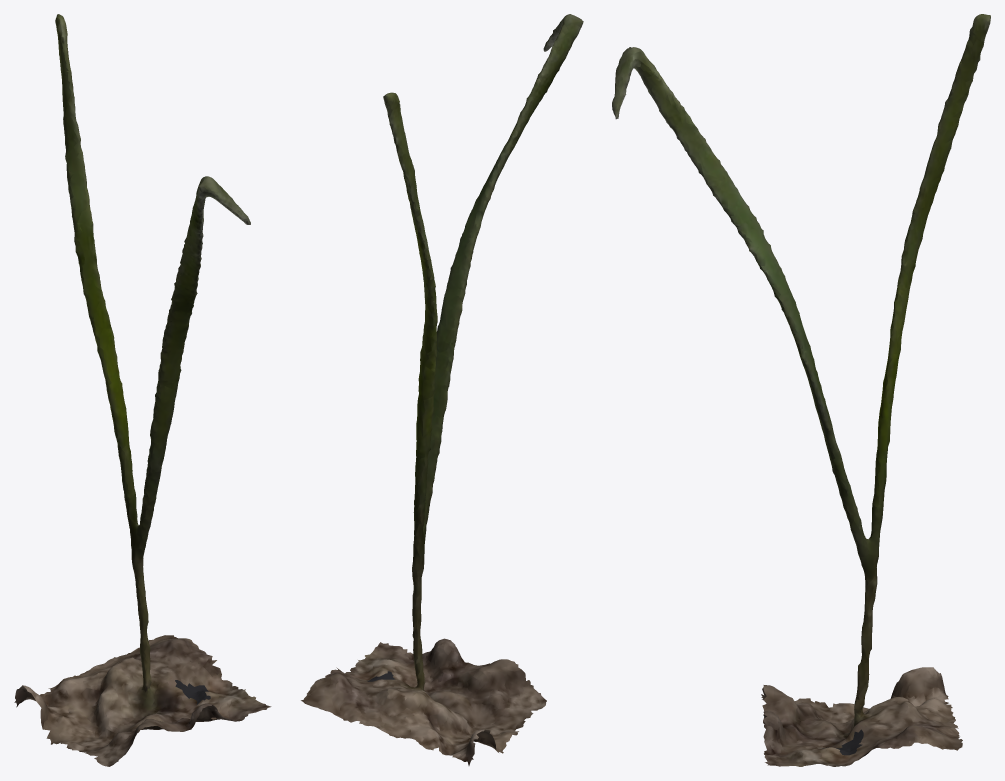
File: Day5.glb
The picture shows the model from 3 angles, left to right: view 1: azimuth 30°, elevation 25°; view 2: azimuth 150°, elevation 25°; view 3: azimuth 270°, elevation 25°; orthographic projection. The views are drawn at different scales.
Visible parts, largest first — view 1: Day5; view 2: Day5; view 3: Day5.
Boxes of the visible parts, x1,y1,x2,y2 form: Day5: [14, 14, 271, 766]; Day5: [301, 14, 583, 765]; Day5: [612, 14, 990, 766].
Bounding box in the file's own units: 0.1946 × 0.7183 × 0.3392.
58 materials, 58 textured.
